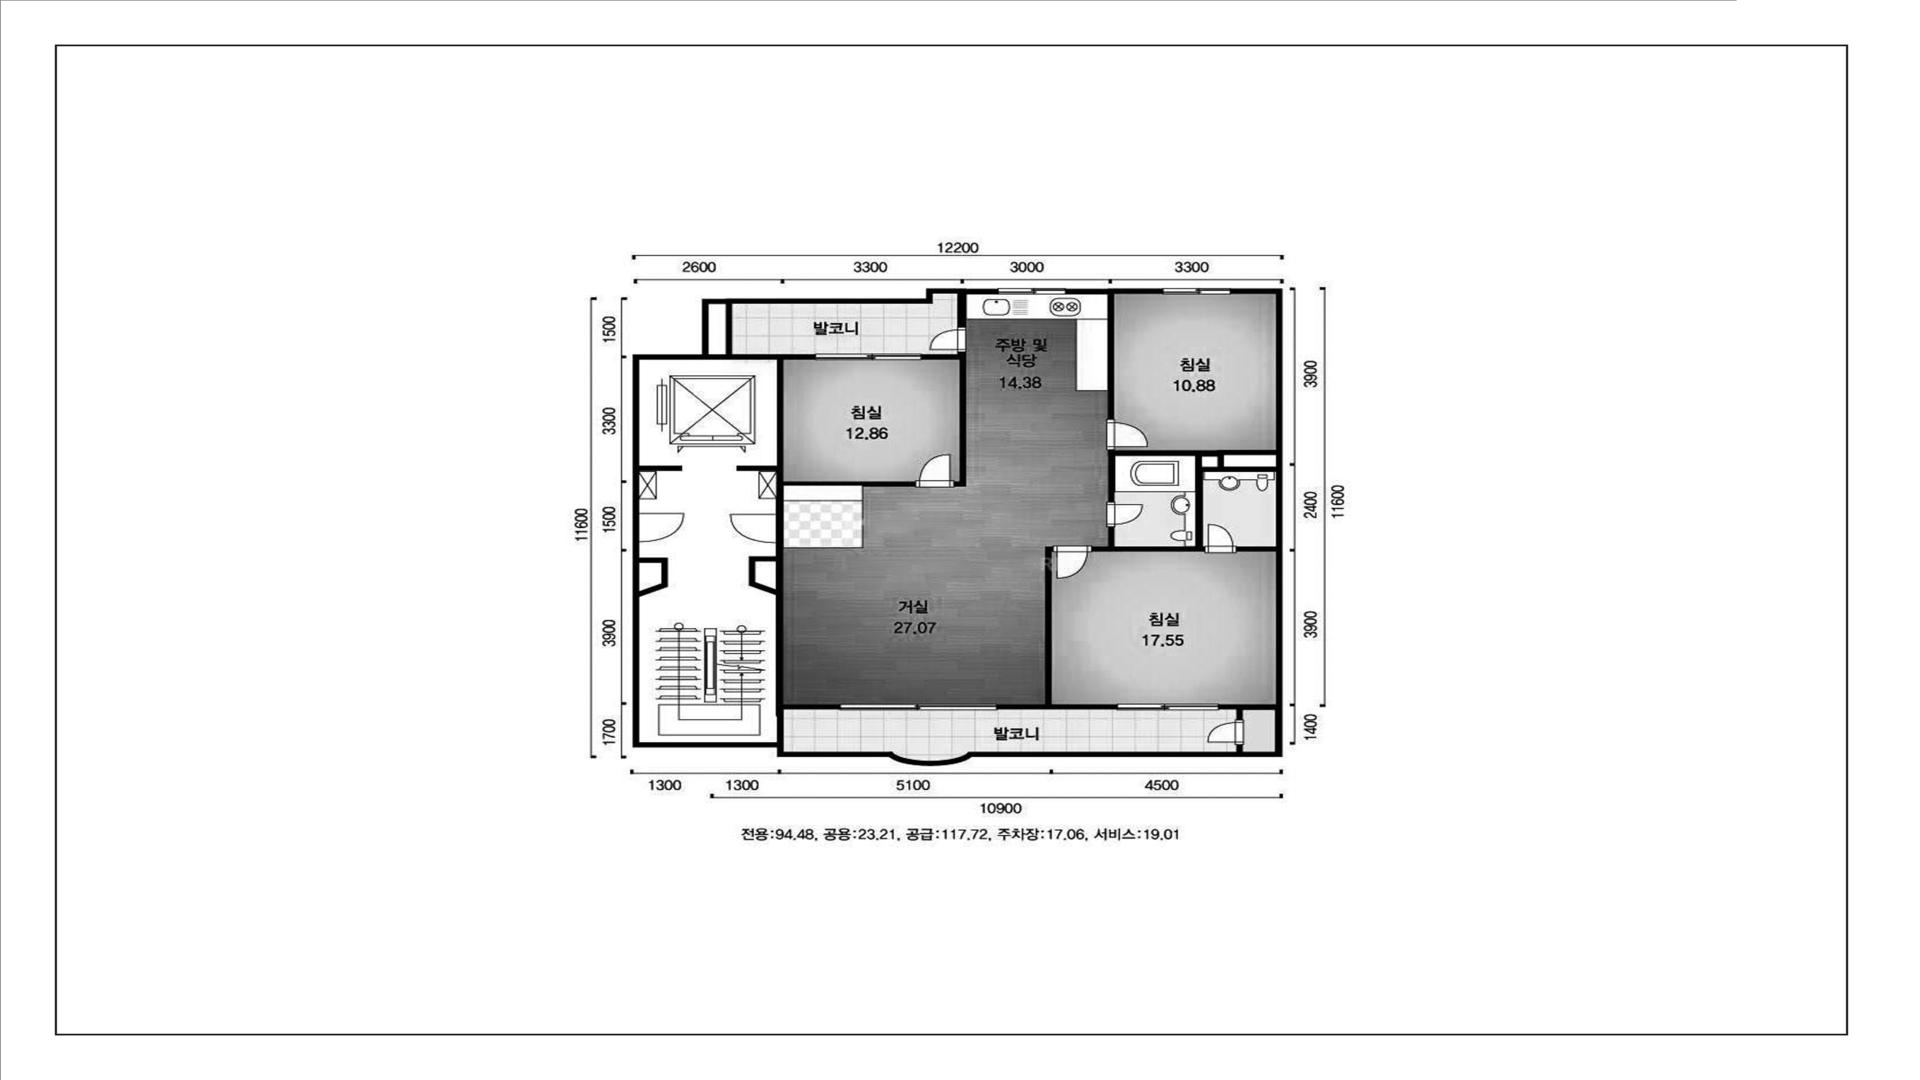background: (0, 0, 1920, 1080)
door: (730, 514, 784, 543), (632, 513, 684, 542), (1106, 418, 1148, 450), (915, 454, 954, 488), (1053, 546, 1092, 579), (1106, 502, 1144, 527), (929, 327, 967, 352), (1205, 523, 1236, 553), (1207, 720, 1244, 744)
wall: (632, 288, 1283, 766), (632, 288, 998, 513), (708, 304, 915, 514), (997, 547, 1116, 709), (1091, 450, 1276, 552), (748, 543, 840, 742), (922, 352, 966, 487), (639, 557, 668, 597), (1106, 294, 1115, 419), (1219, 704, 1275, 720), (755, 561, 776, 589), (1066, 288, 1162, 294), (957, 294, 967, 327), (639, 465, 682, 471), (1236, 546, 1276, 552), (1236, 744, 1243, 752)
window: (840, 704, 997, 710), (1116, 704, 1219, 710)
